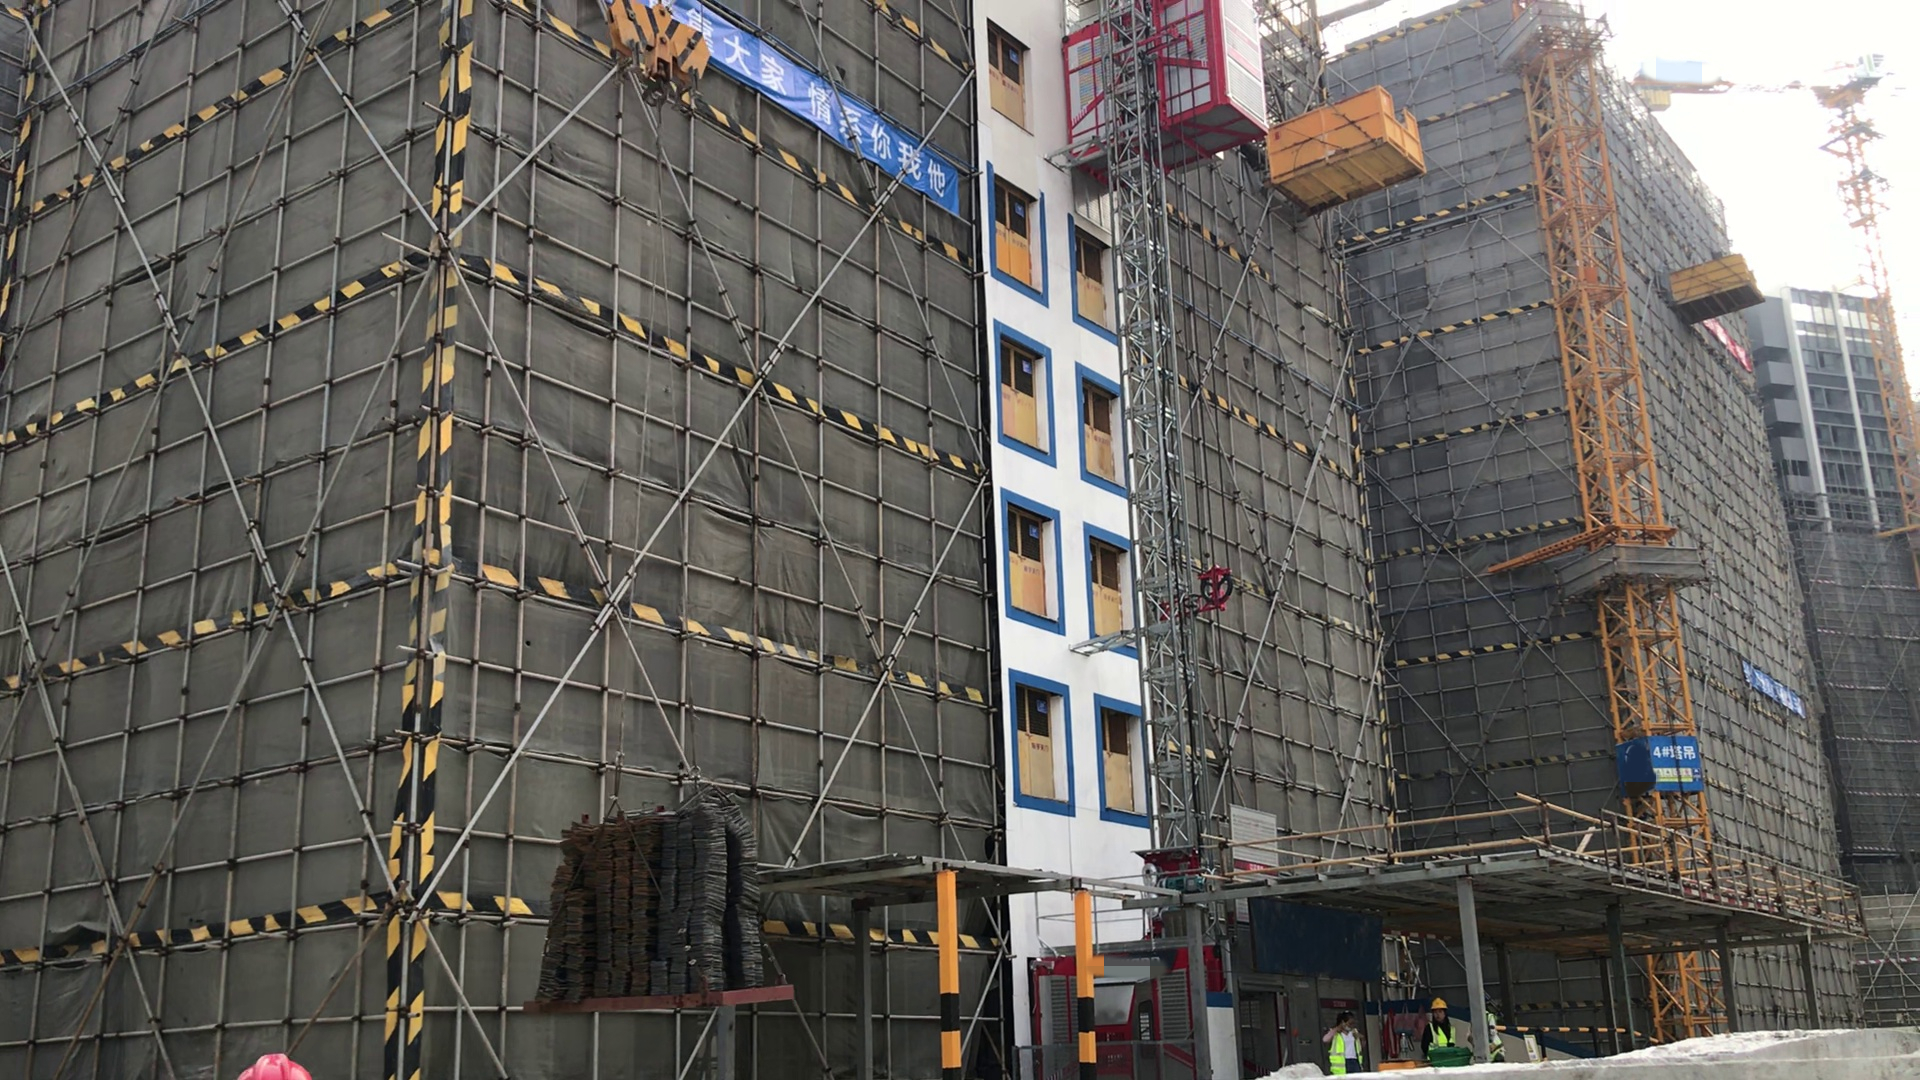helmet: (1426, 997, 1453, 1014)
hook: (603, 1, 715, 119)
person: (1324, 1008, 1374, 1080), (1416, 993, 1459, 1058), (1475, 1000, 1504, 1063)
slogan: (719, 7, 963, 219), (1627, 732, 1710, 797), (1742, 655, 1811, 718), (1693, 315, 1756, 372)
vest: (1328, 1025, 1365, 1075), (1420, 1019, 1461, 1050)
